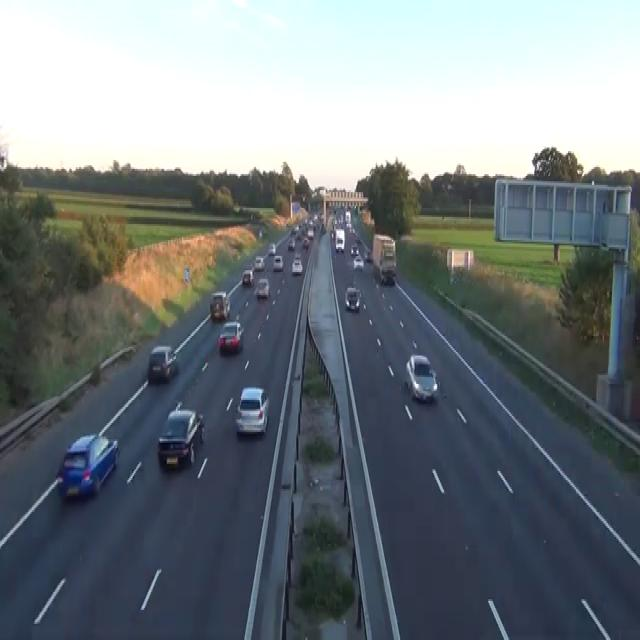Car: (55, 432, 119, 500), (157, 402, 205, 469), (235, 386, 269, 436), (405, 354, 438, 402), (147, 345, 177, 382), (217, 320, 244, 352), (209, 290, 230, 320), (379, 249, 396, 283), (344, 286, 360, 311), (255, 277, 270, 299), (242, 268, 254, 286), (291, 256, 302, 274), (0, 146, 8, 170), (353, 254, 364, 270), (273, 254, 283, 270), (254, 256, 265, 270), (449, 272, 460, 284), (350, 244, 359, 256), (302, 236, 309, 249), (287, 238, 295, 249), (268, 242, 275, 254), (365, 249, 372, 261), (294, 250, 301, 260), (307, 228, 314, 238), (347, 222, 353, 233), (291, 226, 298, 234), (355, 234, 361, 242), (258, 228, 262, 238), (330, 228, 334, 238)
Truck: (371, 233, 396, 283), (334, 228, 345, 252)
